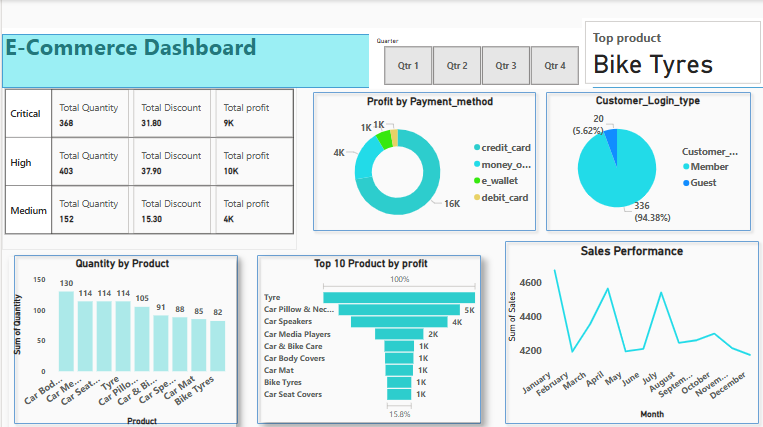

This screenshot's page, from the dashboard's own definition file:
{"tool":"powerbi","page":{"name":"Page 1","canvas":[1280,720],"ordinal":0},"visuals":[{"type":"cardVisual","fields":{"Data":["E-commerce Dataset.Total Quantity","E-commerce Dataset.Total Discount","E-commerce Dataset.Total profit"],"Rows":["E-commerce Dataset.Order_Priority"]},"box":[0,124.3,495.5,295.6],"z":0},{"type":"donutChart","title":" Profit by Payment_method","fields":{"Y":["Sum(E-commerce Dataset.Profit)"],"Category":["E-commerce Dataset.Payment_method"]},"box":[532.5,159.6,372.9,236.9],"z":1000},{"type":"shape","box":[514,146.1,391.4,250.3],"z":2000},{"type":"shape","box":[11.8,419.9,393.1,300.7],"z":3000},{"type":"shape","box":[905.4,146.1,361.2,250.3],"z":4000},{"type":"shape","box":[419.9,419.9,393.1,300.7],"z":5000},{"type":"shape","box":[836.5,396.4,443.5,324.2],"z":6000},{"type":"columnChart","title":" Quantity by Product","fields":{"Y":["Sum(E-commerce Dataset.Quantity)"],"Category":["E-commerce Dataset.Product"]},"box":[11.8,431.7,381.3,288.9],"z":7000},{"type":"lineChart","title":"Sales Performance","fields":{"Category":["E-commerce Dataset.Order_Date.Variation.Date Hierarchy.Month"],"Y":["Sum(E-commerce Dataset.Sales)"]},"box":[843.3,409.9,430,299],"z":8000},{"type":"pieChart","title":" Customer_Login_type","fields":{"Category":["E-commerce Dataset.Customer_Login_type"],"Y":["CountNonNull(E-commerce Dataset.Customer_Id)"]},"box":[918.8,157.9,332.6,226.8],"z":9000},{"type":"textbox","box":[0,47,1273.3,99.1],"z":10000},{"type":"shape","box":[0,57.1,1280,90.7],"z":11000},{"type":"slicer","fields":{"Values":["E-commerce Dataset.Order_Date.Variation.Date Hierarchy.Quarter"]},"box":[616.5,57.1,376.3,92.4],"z":12000},{"type":"cardVisual","fields":{"Data":["E-commerce Dataset.top product"]},"box":[974.3,30.2,305.7,115.9],"z":13000},{"type":"funnel","title":"Top 10  Product by profit","fields":{"Category":["E-commerce Dataset.Product"],"Y":["Sum(E-commerce Dataset.Profit)"]},"box":[435.1,431.7,369.6,277.2],"z":14000}]}

Visuals, with their boxes in screenshot pixels (x1, y1, x2, y2), scaled from the page's 1280x720 canvas onto the 763x427 screenshot:
cardVisual - E-commerce Dataset.Total Quantity x E-commerce Dataset.Total Discount: <bbox>0, 74, 295, 249</bbox>
" Profit by Payment_method" donutChart: <bbox>317, 95, 540, 235</bbox>
shape: <bbox>306, 87, 540, 235</bbox>
shape: <bbox>7, 249, 241, 426</bbox>
shape: <bbox>540, 87, 755, 235</bbox>
shape: <bbox>250, 249, 485, 426</bbox>
shape: <bbox>499, 235, 762, 426</bbox>
" Quantity by Product" columnChart: <bbox>7, 256, 234, 426</bbox>
"Sales Performance" lineChart: <bbox>503, 243, 759, 420</bbox>
" Customer_Login_type" pieChart: <bbox>548, 94, 746, 228</bbox>
textbox: <bbox>0, 28, 759, 87</bbox>
shape: <bbox>0, 34, 762, 88</bbox>
slicer - E-commerce Dataset.Order_Date.Variation.Date Hierarchy.Quarter: <bbox>367, 34, 592, 89</bbox>
cardVisual - E-commerce Dataset.top product: <bbox>581, 18, 762, 87</bbox>
"Top 10  Product by profit" funnel: <bbox>259, 256, 480, 420</bbox>
